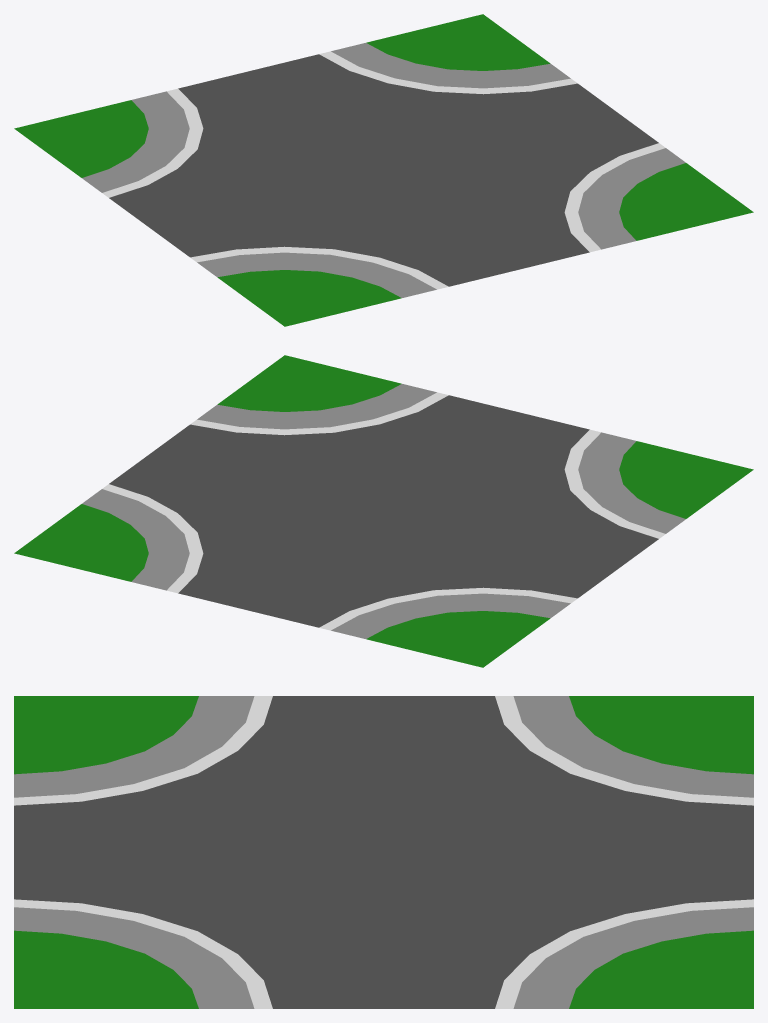
File: Road-Cross.fbx
The picture shows the model from 3 angles, top to bottom: view 1: azimuth 30°, elevation 25°; view 2: azimuth 150°, elevation 25°; view 3: azimuth 270°, elevation 25°; orthographic projection. The views are drawn at different scales.
Parts seen in each view (by area): view 1: Road-Cross, Road-Cross_Terrain, Road-Cross_Sidewalk, Road-Cross_Whiteline; view 2: Road-Cross, Road-Cross_Terrain, Road-Cross_Sidewalk, Road-Cross_Whiteline; view 3: Road-Cross, Road-Cross_Terrain, Road-Cross_Sidewalk, Road-Cross_Whiteline.
Part boxes in pixels (x1,y1,x2,y2): Road-Cross: [109, 54, 658, 286]; Road-Cross_Terrain: [14, 14, 753, 326]; Road-Cross_Sidewalk: [82, 43, 685, 297]; Road-Cross_Whiteline: [102, 51, 665, 289]; Road-Cross: [109, 395, 658, 627]; Road-Cross_Terrain: [14, 355, 753, 667]; Road-Cross_Sidewalk: [82, 384, 685, 638]; Road-Cross_Whiteline: [102, 392, 665, 630]; Road-Cross: [14, 696, 753, 1008]; Road-Cross_Terrain: [14, 696, 753, 1008]; Road-Cross_Sidewalk: [14, 696, 753, 1008]; Road-Cross_Whiteline: [14, 696, 753, 1008].
Size of the model in its own units: 20 by 0 by 20.
